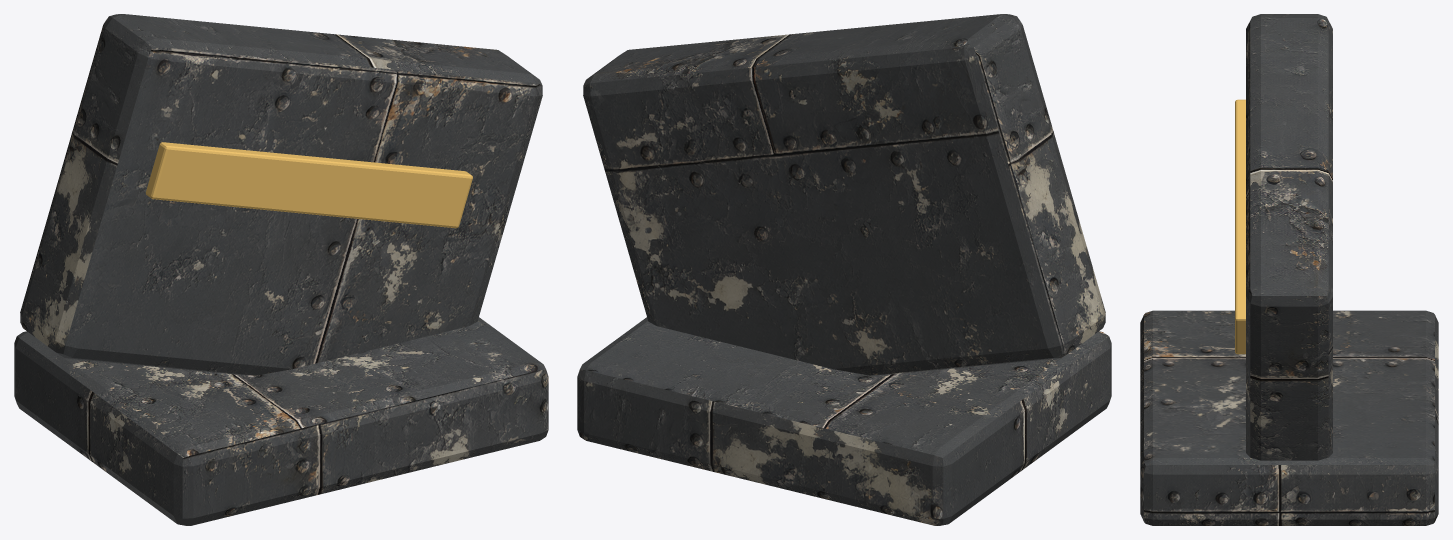
Rendered from prop_monolith.glb.
The picture shows the model from 3 angles, left to right: view 1: azimuth 30°, elevation 25°; view 2: azimuth 150°, elevation 25°; view 3: azimuth 270°, elevation 25°; orthographic projection. The views are drawn at different scales.
Visible parts, largest first — view 1: GEO-slab, GEO-base, GEO-slab-stripe; view 2: GEO-slab, GEO-base; view 3: GEO-base, GEO-slab, GEO-slab-stripe.
Part boxes in pixels (x1,y1,x2,y2): GEO-slab: (20,14,542,375); GEO-base: (14,317,548,525); GEO-slab-stripe: (145,142,472,228); GEO-slab: (583,14,1105,375); GEO-base: (577,317,1111,525); GEO-base: (1140,310,1438,525); GEO-slab: (1246,14,1332,460); GEO-slab-stripe: (1235,99,1245,354).
Size of the model in its own units: 39.01 by 33.3 by 24.
Materials: 3 (2 with a texture image).
